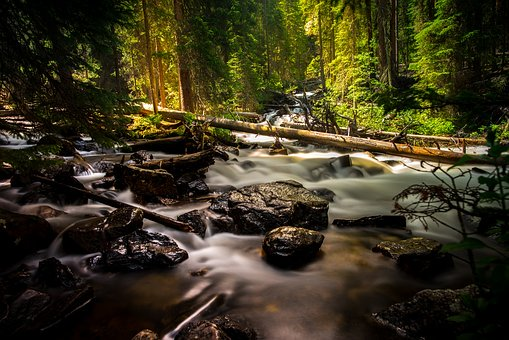forest: (4, 4, 502, 339)
stone: (23, 145, 331, 268)
